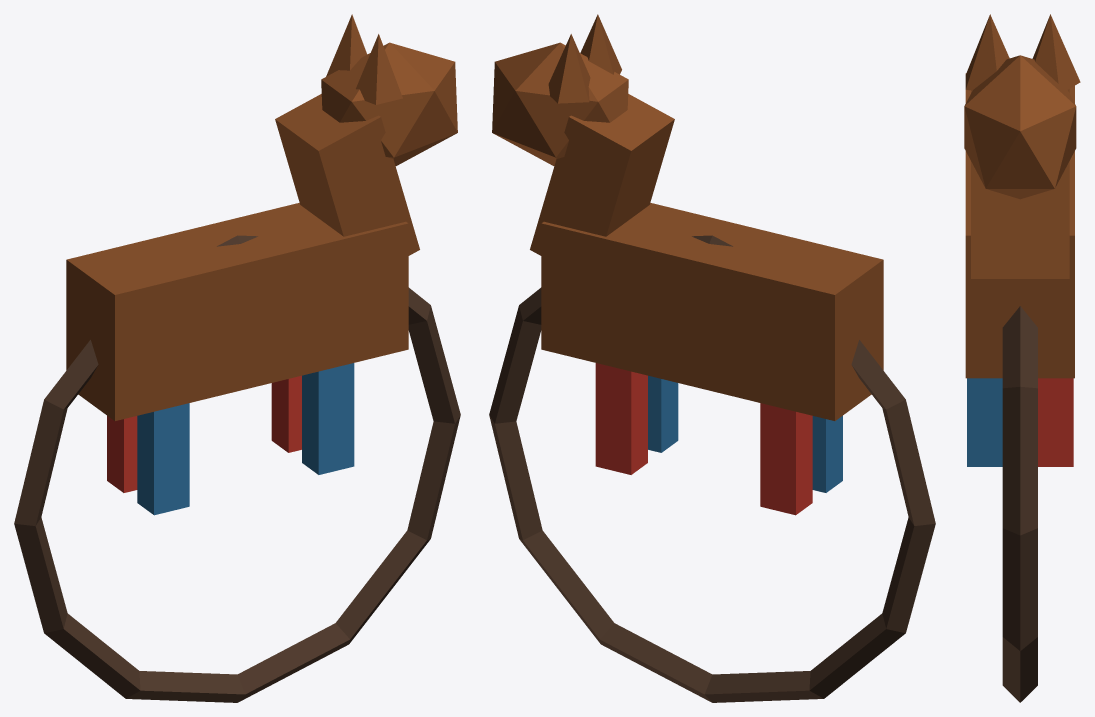
The model's file is toy.glb.
The picture shows the model from 3 angles, left to right: view 1: azimuth 30°, elevation 25°; view 2: azimuth 150°, elevation 25°; view 3: azimuth 270°, elevation 25°; orthographic projection. The views are drawn at different scales.
Parts seen in each view (by area): view 1: ToyHorseBody, Rocker, ToyHorseNeck, ToyHorseHead, ToyLeg.002, ToyLeg, ToyLeg.001, ToyLeg.003, Ear1, Ear2; view 2: ToyHorseBody, Rocker, ToyHorseNeck, ToyHorseHead, ToyLeg.003, ToyLeg.001, ToyLeg, ToyLeg.002, Ear2, Ear1; view 3: Rocker, ToyHorseHead, ToyHorseBody, ToyHorseNeck, ToyLeg.002, ToyLeg.003, Ear2, Ear1.
Boxes of the visible parts, left/top/right/bottom form: ToyHorseBody: left=66, top=203, right=408, bottom=420; Rocker: left=14, top=235, right=460, bottom=702; ToyHorseNeck: left=275, top=94, right=419, bottom=255; ToyHorseHead: left=321, top=42, right=457, bottom=165; ToyLeg.002: left=302, top=363, right=354, bottom=474; ToyLeg: left=137, top=403, right=189, bottom=515; ToyLeg.001: left=107, top=416, right=137, bottom=492; ToyLeg.003: left=271, top=375, right=301, bottom=452; Ear1: left=356, top=34, right=402, bottom=104; Ear2: left=326, top=14, right=367, bottom=76; ToyHorseBody: left=541, top=203, right=883, bottom=420; Rocker: left=489, top=235, right=935, bottom=702; ToyHorseNeck: left=530, top=94, right=674, bottom=255; ToyHorseHead: left=492, top=42, right=628, bottom=165; ToyLeg.003: left=595, top=363, right=647, bottom=474; ToyLeg.001: left=760, top=403, right=812, bottom=515; ToyLeg: left=812, top=416, right=842, bottom=492; ToyLeg.002: left=648, top=375, right=678, bottom=452; Ear2: left=548, top=34, right=590, bottom=103; Ear1: left=580, top=14, right=621, bottom=74; Rocker: left=1002, top=306, right=1037, bottom=702; ToyHorseHead: left=964, top=55, right=1076, bottom=199; ToyHorseBody: left=965, top=73, right=1074, bottom=378; ToyHorseNeck: left=971, top=89, right=1069, bottom=278; ToyLeg.002: left=967, top=378, right=1002, bottom=466; ToyLeg.003: left=1038, top=378, right=1073, bottom=466; Ear2: left=1032, top=14, right=1080, bottom=89; Ear1: left=965, top=14, right=1009, bottom=90.
Bounding box in the file's own units: 4.26 × 5.91 × 0.8483.
